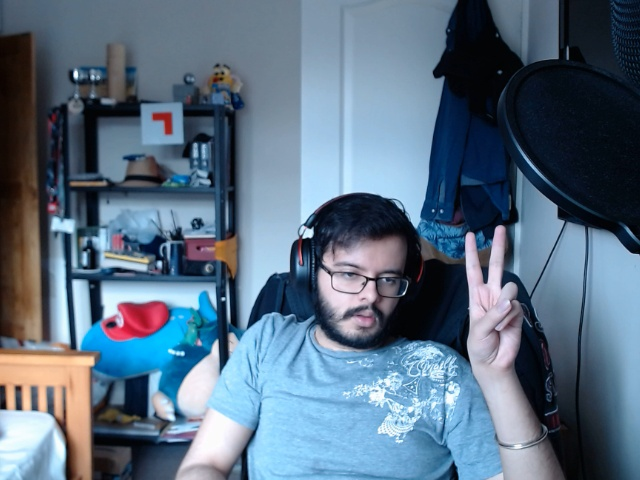Peace: (459, 222, 534, 375)
